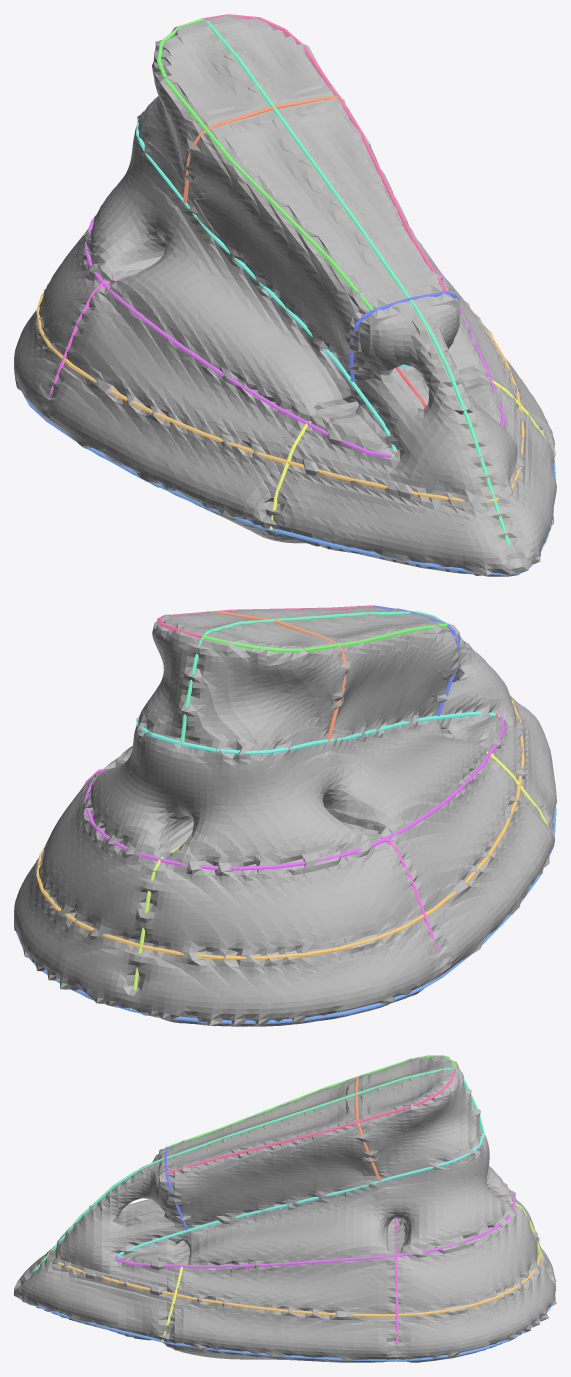
File: t2f_iron.gltf
The picture shows the model from 3 angles, top to bottom: view 1: azimuth 30°, elevation 25°; view 2: azimuth 150°, elevation 25°; view 3: azimuth 270°, elevation 25°; orthographic projection. The views are drawn at different scales.
Bounding box in the file's own units: 0.4826 × 0.4319 × 0.8086.
